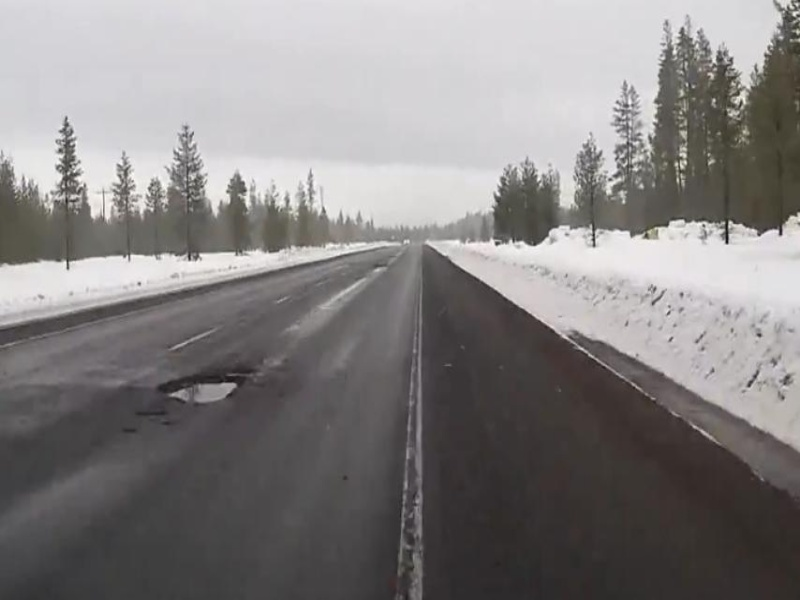pothole: (159, 372, 251, 406)
